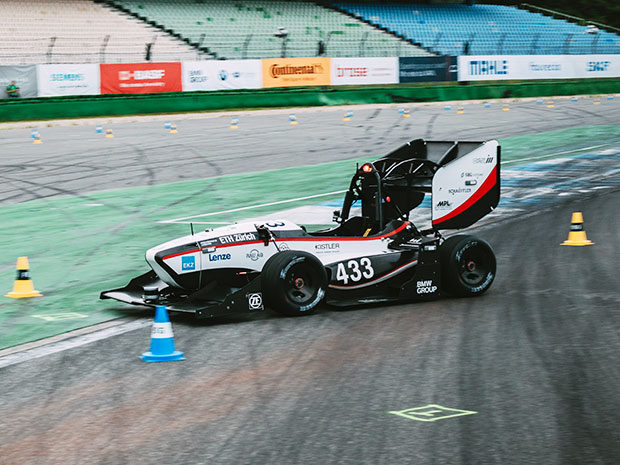cone: (140, 305, 188, 366), (4, 251, 45, 298), (558, 207, 591, 249)
